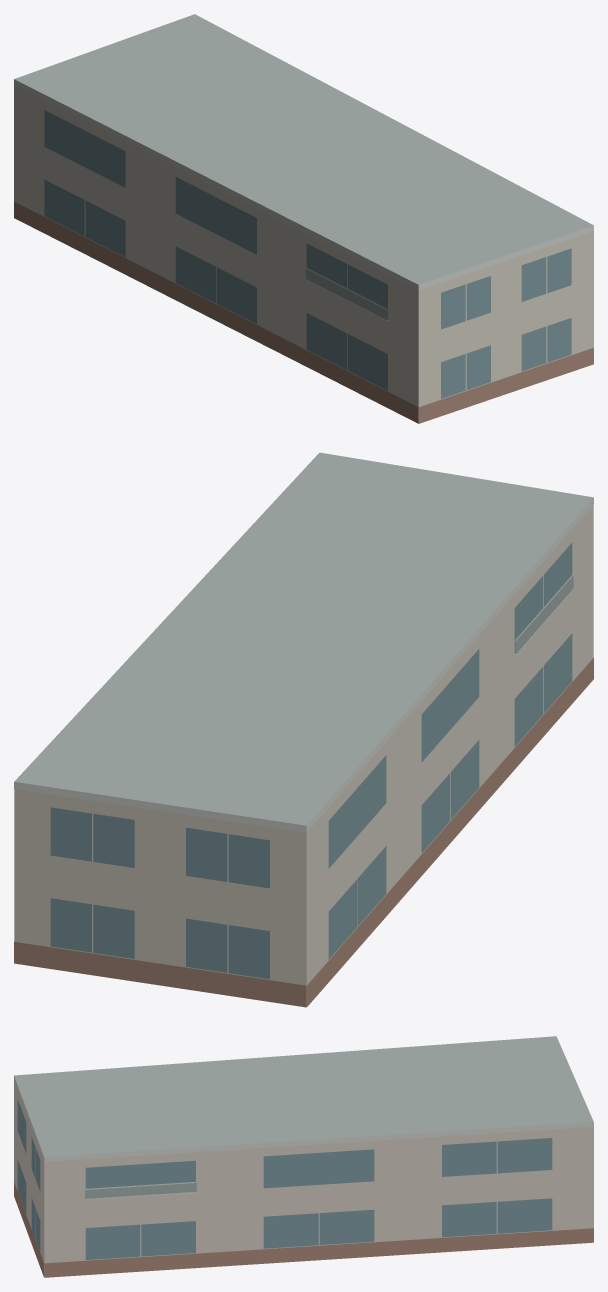
File: survey-upis-32579733.glb
3 renders of one model, top to bottom at view 1: azimuth 30°, elevation 25°; view 2: azimuth 150°, elevation 25°; view 3: azimuth 270°, elevation 25°, orthographic. The views are drawn at different scales.
Visible parts, largest first — view 1: survey-upis-32579733.tmp; view 2: survey-upis-32579733.tmp; view 3: survey-upis-32579733.tmp.
Part boxes in pixels (bbox=[...]): survey-upis-32579733.tmp: bbox=[14, 14, 593, 423]; survey-upis-32579733.tmp: bbox=[14, 452, 593, 1007]; survey-upis-32579733.tmp: bbox=[14, 1036, 593, 1277].
Size of the model in its own units: 13.11 by 6.1 by 26.56.
